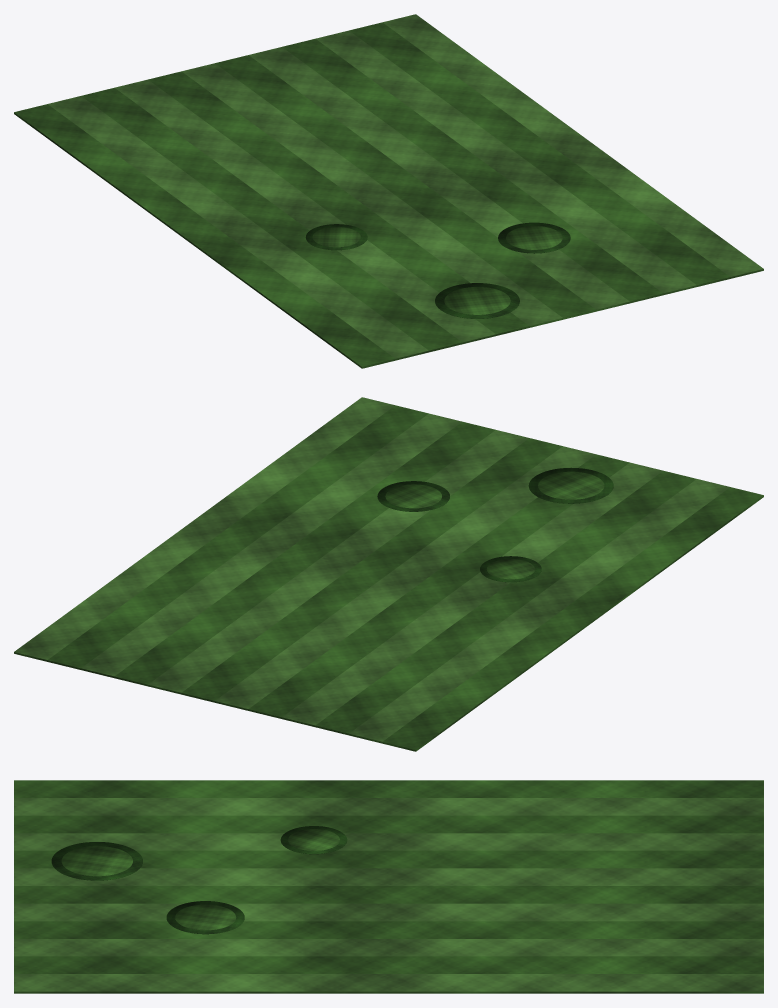
Rendered from range-ground.glb.
The picture shows the model from 3 angles, top to bottom: view 1: azimuth 30°, elevation 25°; view 2: azimuth 150°, elevation 25°; view 3: azimuth 270°, elevation 25°; orthographic projection. The views are drawn at different scales.
Visible parts, largest first — view 1: MowingStrip, MowingStrip.009, MowingStrip.001, MowingStrip.010, MowingStrip.011, MowingStrip.006, MowingStrip.002, MowingStrip.008, MowingStrip.005, MowingStrip.007, MowingStrip.003, MowingStrip.004 (+3 smaller); view 2: MowingStrip, MowingStrip.009, MowingStrip.001, MowingStrip.010, MowingStrip.011, MowingStrip.006, MowingStrip.002, MowingStrip.008, MowingStrip.005, MowingStrip.007, MowingStrip.003, MowingStrip.004 (+3 smaller); view 3: MowingStrip.002, MowingStrip, MowingStrip.001, MowingStrip.009, MowingStrip.010, MowingStrip.011, MowingStrip.006, MowingStrip.007, MowingStrip.008, MowingStrip.005, MowingStrip.004, MowingStrip.003 (+3 smaller).
Boxes of the visible parts, bbox=[...] form: MowingStrip: bbox=[14, 104, 395, 366]; MowingStrip.009: bbox=[316, 30, 696, 293]; MowingStrip.001: bbox=[48, 96, 428, 358]; MowingStrip.010: bbox=[349, 22, 730, 285]; MowingStrip.011: bbox=[383, 14, 763, 276]; MowingStrip.006: bbox=[215, 55, 596, 317]; MowingStrip.002: bbox=[81, 87, 462, 350]; MowingStrip.008: bbox=[282, 38, 663, 301]; MowingStrip.005: bbox=[182, 63, 562, 325]; MowingStrip.007: bbox=[249, 47, 629, 309]; MowingStrip.003: bbox=[115, 79, 495, 342]; MowingStrip.004: bbox=[148, 71, 529, 334]; MowingStrip: bbox=[382, 487, 763, 749]; MowingStrip.009: bbox=[81, 413, 461, 676]; MowingStrip.001: bbox=[349, 479, 729, 741]; MowingStrip.010: bbox=[47, 405, 428, 668]; MowingStrip.011: bbox=[14, 397, 394, 659]; MowingStrip.006: bbox=[181, 438, 562, 700]; MowingStrip.002: bbox=[315, 470, 696, 733]; MowingStrip.008: bbox=[114, 421, 495, 684]; MowingStrip.005: bbox=[215, 446, 595, 708]; MowingStrip.007: bbox=[148, 430, 528, 692]; MowingStrip.003: bbox=[282, 462, 662, 725]; MowingStrip.004: bbox=[248, 454, 629, 717]; MowingStrip.002: bbox=[14, 815, 763, 833]; MowingStrip: bbox=[14, 780, 763, 797]; MowingStrip.001: bbox=[14, 798, 763, 815]; MowingStrip.009: bbox=[14, 939, 763, 956]; MowingStrip.010: bbox=[14, 956, 763, 973]; MowingStrip.011: bbox=[14, 974, 763, 991]; MowingStrip.006: bbox=[14, 886, 763, 903]; MowingStrip.007: bbox=[14, 903, 763, 921]; MowingStrip.008: bbox=[14, 921, 763, 938]; MowingStrip.005: bbox=[14, 868, 763, 885]; MowingStrip.004: bbox=[14, 850, 763, 868]; MowingStrip.003: bbox=[14, 833, 763, 850].
Bounding box in the file's own units: 60 × 0.289 × 90.
Materials: 3 (3 with a texture image).
